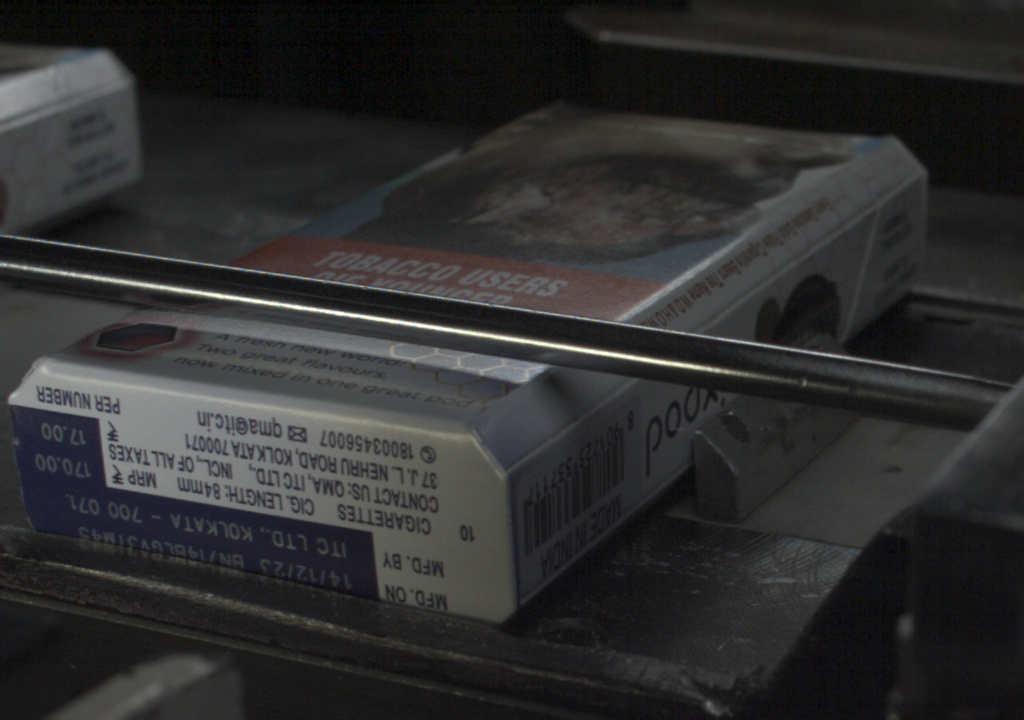g_bottom: (1, 358, 506, 629)
g_label: (1, 483, 358, 598)
g_lmiter: (793, 210, 878, 269), (710, 272, 791, 332), (506, 422, 582, 482), (581, 372, 647, 417)
g_miter: (881, 169, 922, 206)
price: (1, 410, 91, 483)
